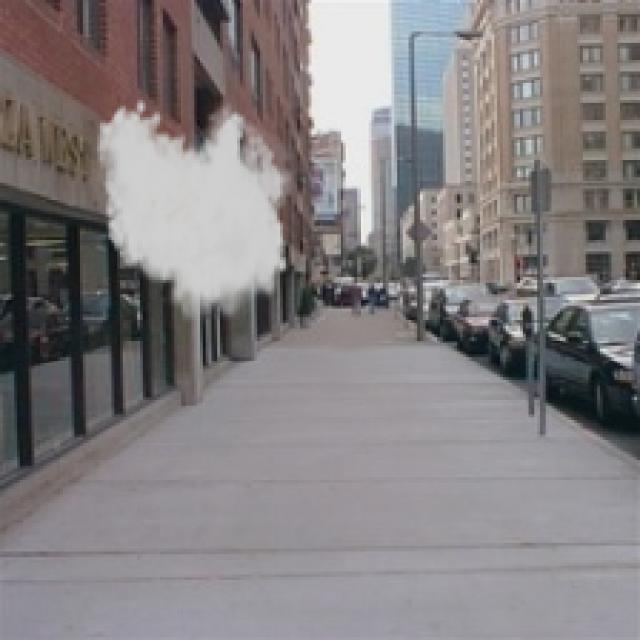smoke: (94, 97, 300, 329)
